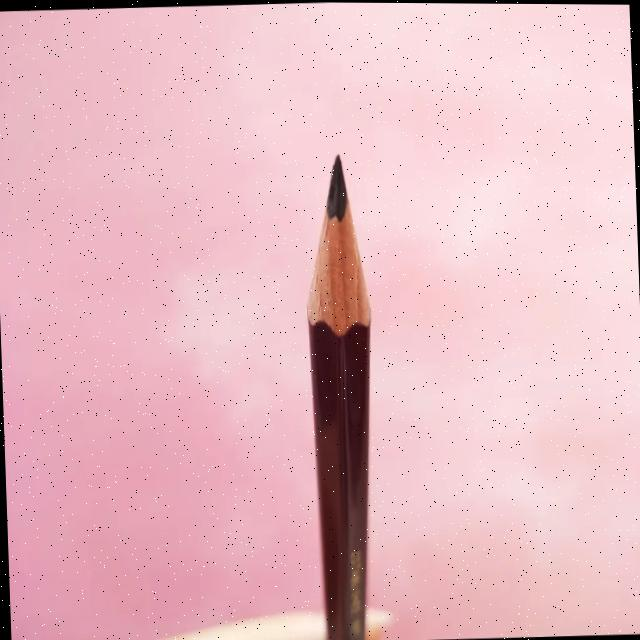pencil: (294, 147, 386, 640)
